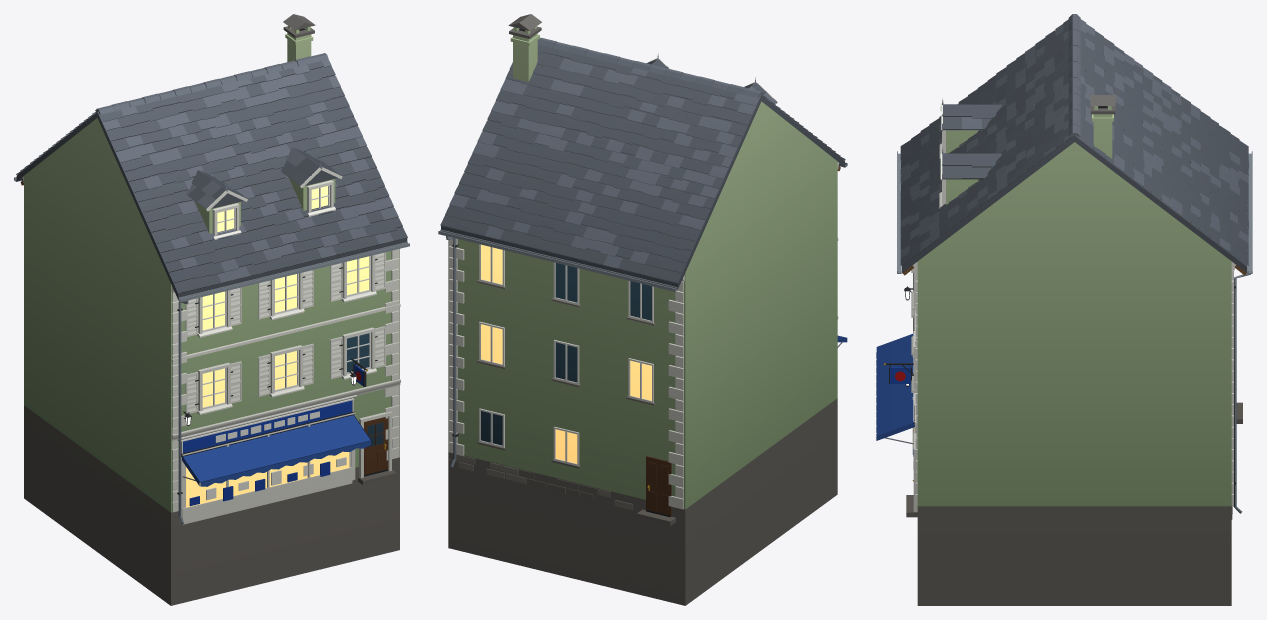
The model's file is TownHouse_G.fbx.
3 views of the same model, side by side, from view 1: azimuth 30°, elevation 25°; view 2: azimuth 150°, elevation 25°; view 3: azimuth 270°, elevation 25° (orthographic). The views are drawn at different scales.
Parts seen in each view (by area): view 1: TownHouse_G_LOD0; view 2: TownHouse_G_LOD0; view 3: TownHouse_G_LOD0.
Boxes of the visible parts, x1=… form: TownHouse_G_LOD0: x1=14, y1=14, x2=409, y2=605; TownHouse_G_LOD0: x1=438, y1=14, x2=847, y2=605; TownHouse_G_LOD0: x1=876, y1=14, x2=1252, y2=605.
Size of what is drawn, in the model's own units: 9 by 17.7 by 11.97.
1 material, 1 textured.
